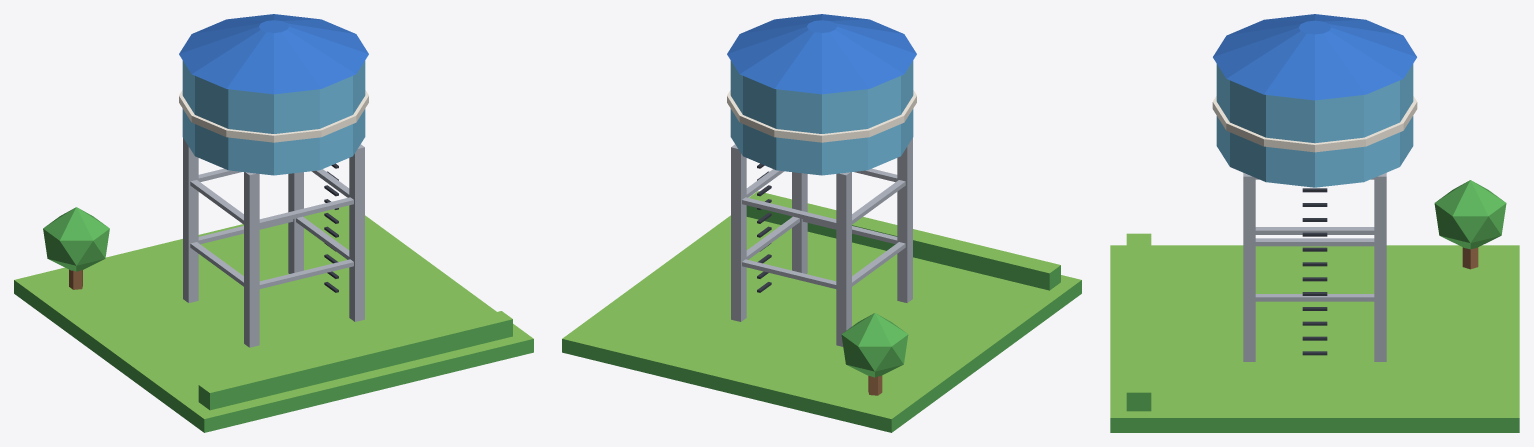
File: public_water_tower.glb
The picture shows the model from 3 angles, left to right: view 1: azimuth 30°, elevation 25°; view 2: azimuth 150°, elevation 25°; view 3: azimuth 270°, elevation 25°; orthographic projection. The views are drawn at different scales.
Parts seen in each view (by area): view 1: public_water_tower; view 2: public_water_tower; view 3: public_water_tower.
Boxes of the visible parts, x1=… form: public_water_tower: x1=14, y1=14, x2=533, y2=432; public_water_tower: x1=562, y1=14, x2=1081, y2=432; public_water_tower: x1=1110, y1=14, x2=1519, y2=432.
Size of the model in its own units: 1 by 0.86 by 1.
